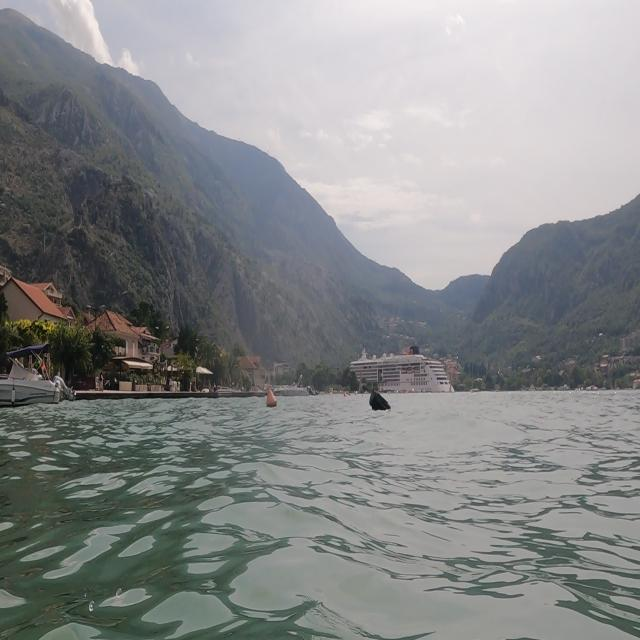boat: (346, 347, 462, 412), (0, 340, 80, 421)
buoy: (363, 389, 398, 419), (263, 380, 279, 414)
